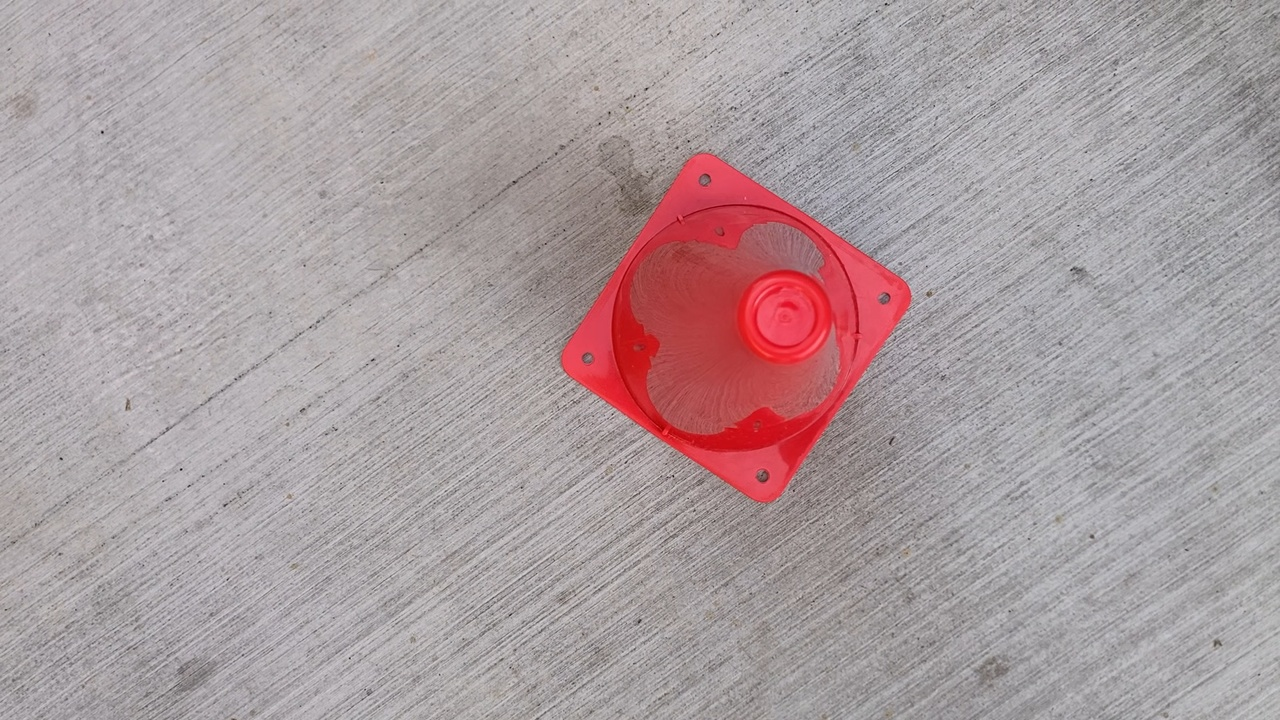red_cone: (555, 149, 916, 512)
